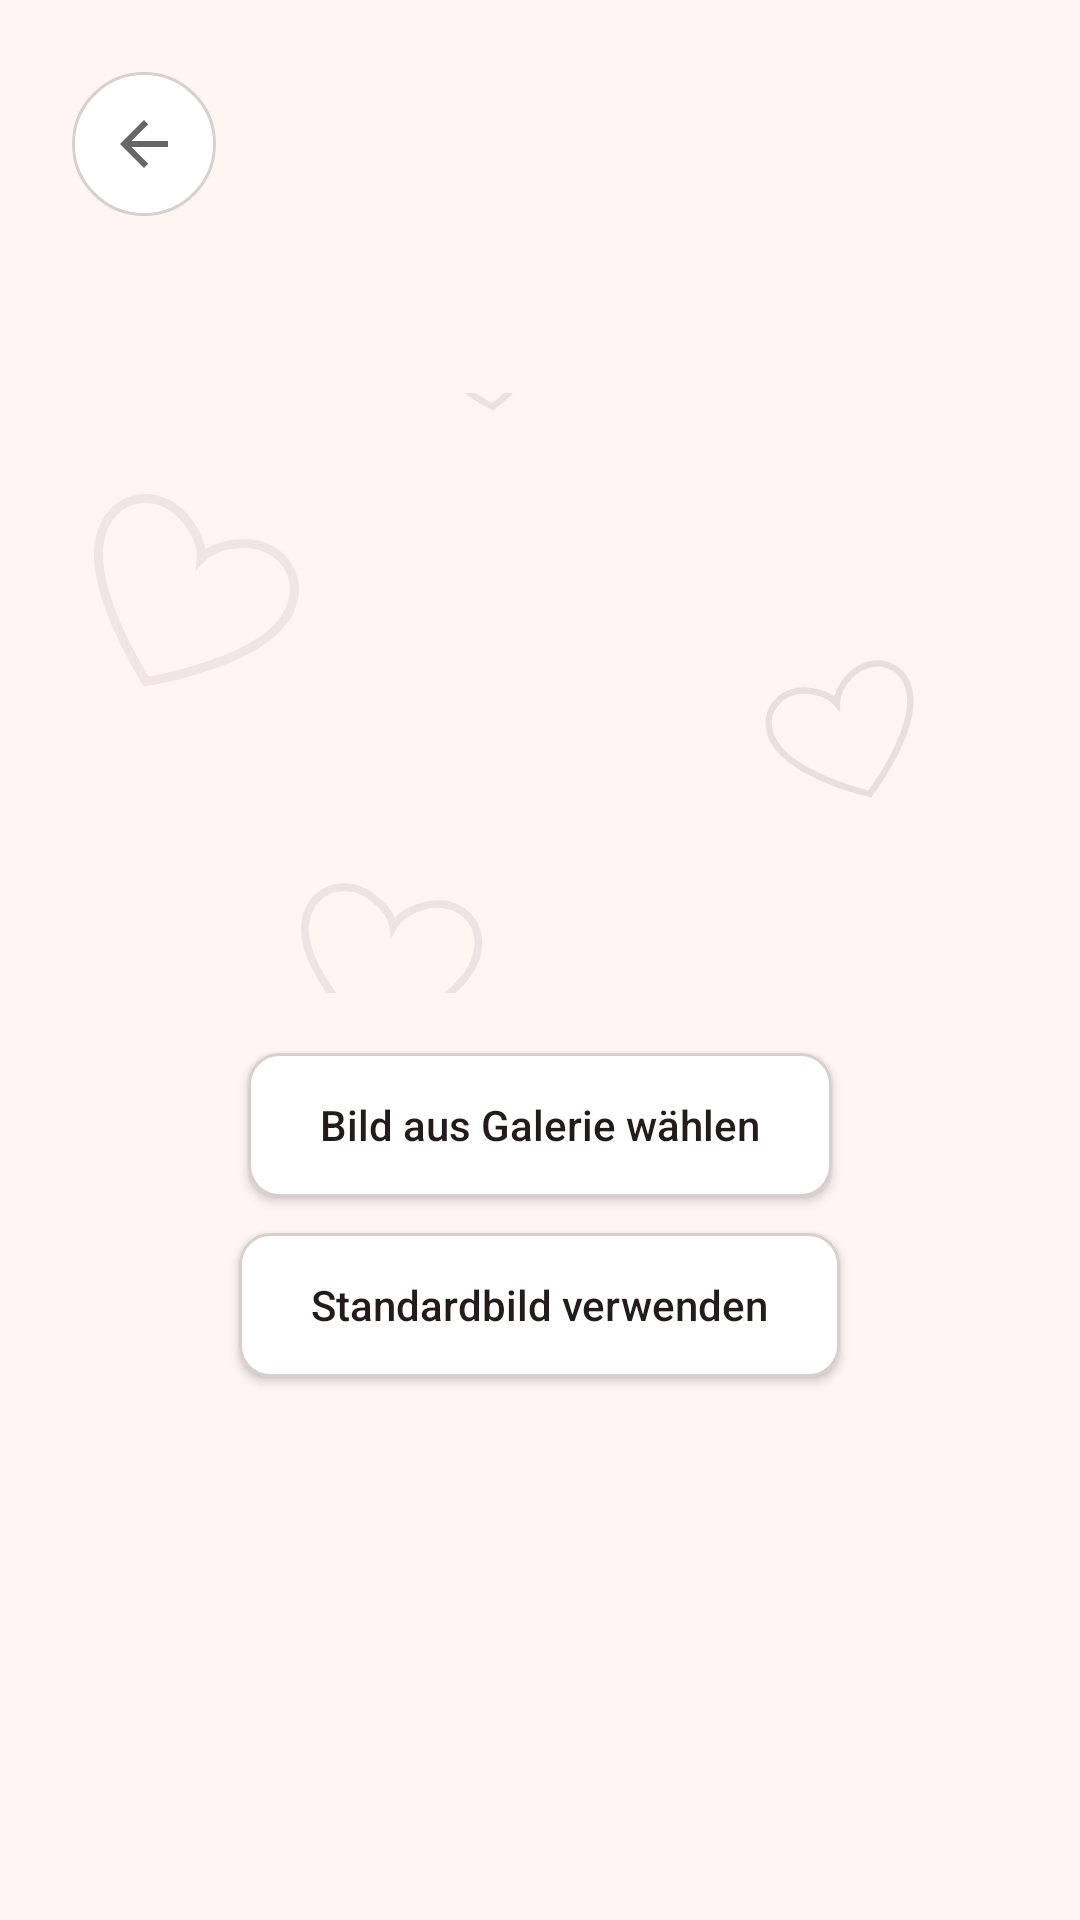

Icons on this 1080 × 1920 Android screen, each with the point to tap as (x,y):
Zurück: (144,144)
